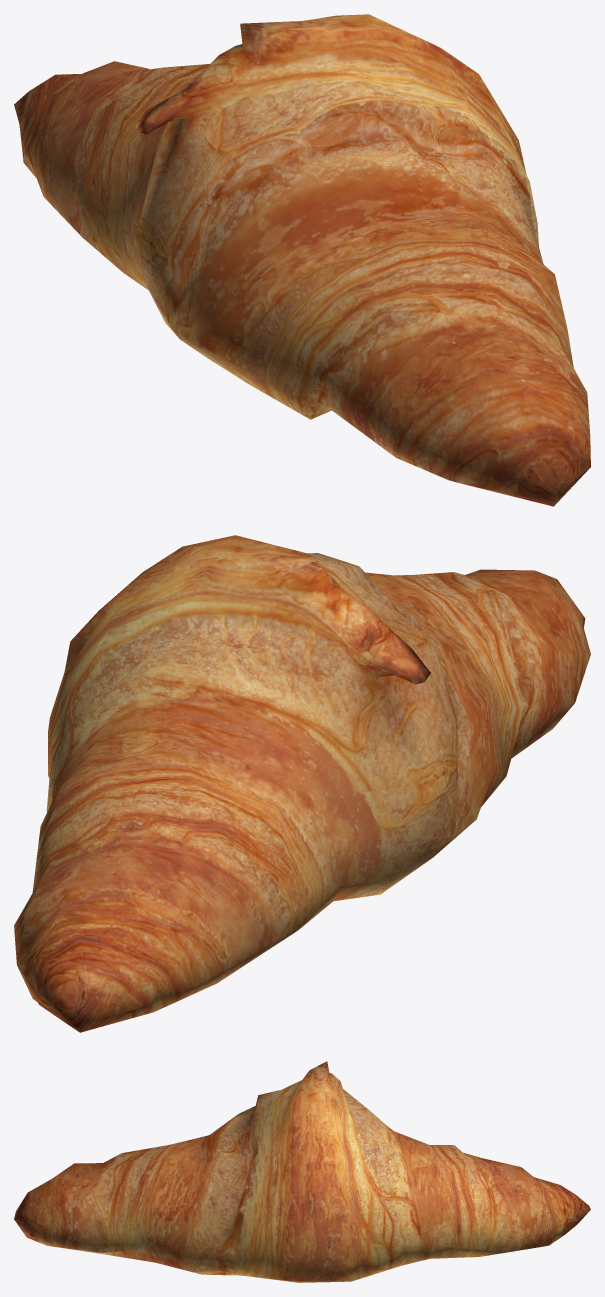
File: croissant.glb
3 renders of one model, top to bottom at view 1: azimuth 30°, elevation 25°; view 2: azimuth 150°, elevation 25°; view 3: azimuth 270°, elevation 25°, orthographic. The views are drawn at different scales.
Visible parts, largest first — view 1: croissant; view 2: croissant; view 3: croissant.
Boxes of the visible parts, x1,y1,x2,y2 form: croissant: (14,14,590,506); croissant: (14,535,590,1032); croissant: (14,1061,590,1282).
Bounding box in the file's own units: 0.4908 × 0.408 × 1.22.
Materials: 1 (1 with a texture image).
